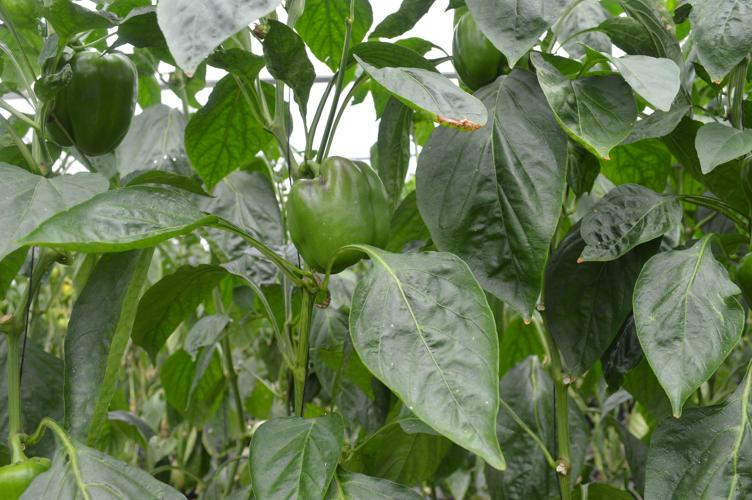BellPepper: (282, 156, 389, 267), (37, 50, 144, 153), (448, 18, 507, 90)
